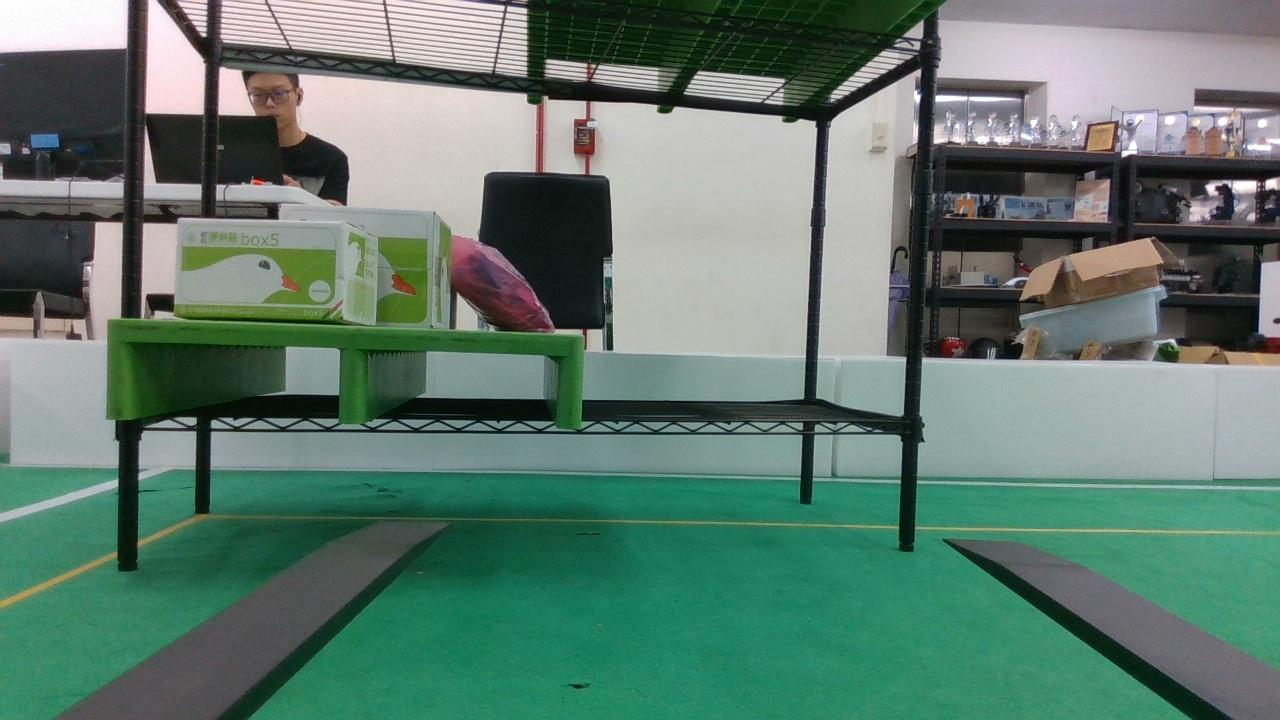Pallet: (105, 317, 585, 431)
